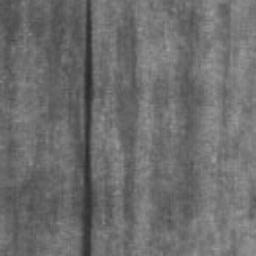Scratches: (80, 0, 95, 256)
